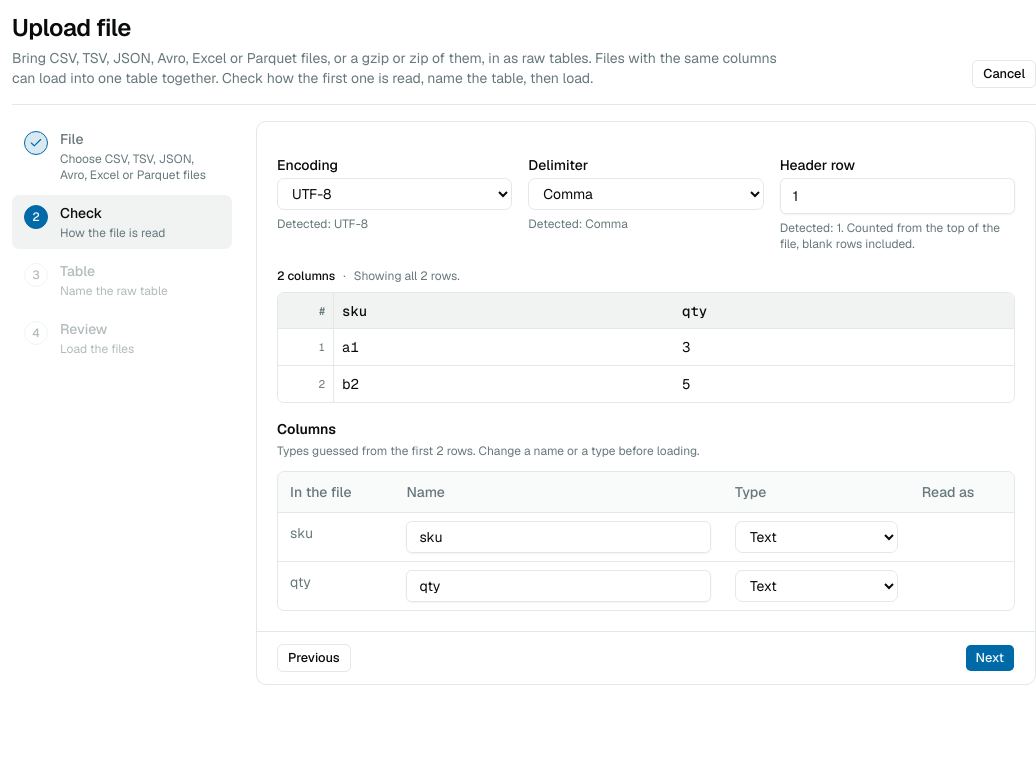
UploadFilePage, Table step › suggests a name from the file and shows the naming rule
Check: the dropdown labelled "Encoding" is shown, box [277,178,512,210]
Click the button "Next". click: click(990, 658)
box: [964,644,1015,672]
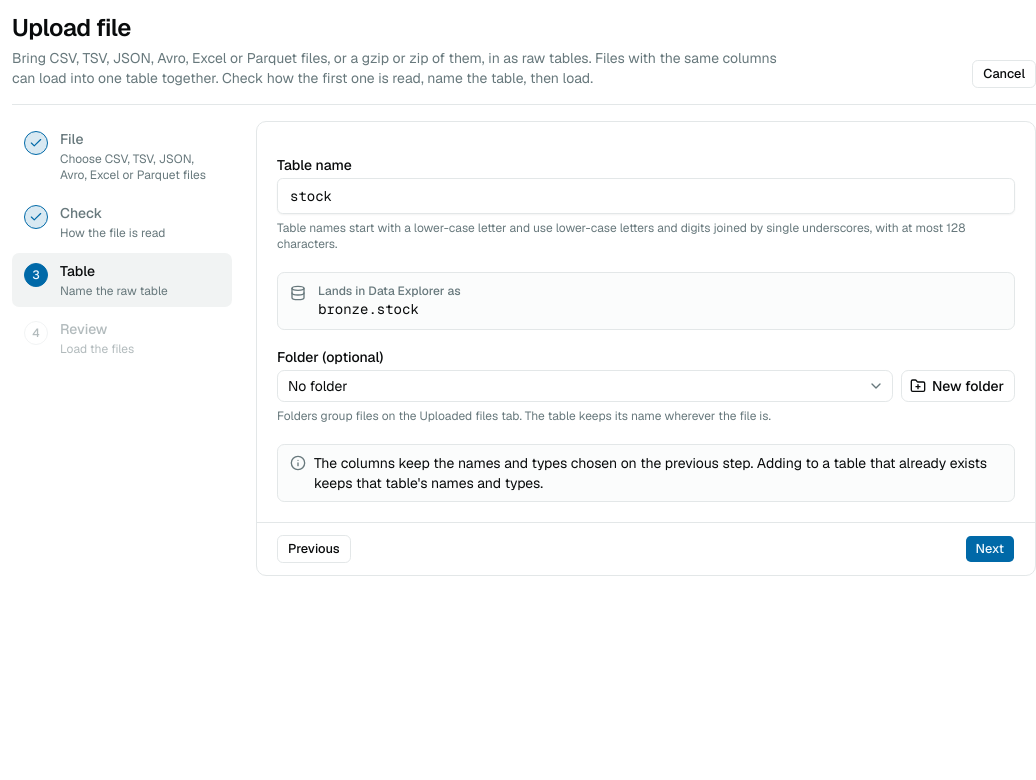
Check: the field labelled "Table name" holds "stock", box [277,178,1015,214]
Check: the text "Table names start with a lower-case letter and use lower-case letters and digits joined by single underscores, with at m" is shown, box [277,220,965,252]
Check: the text "The columns keep the names and types chosen on the previous step" is shown, box [314,454,987,492]
